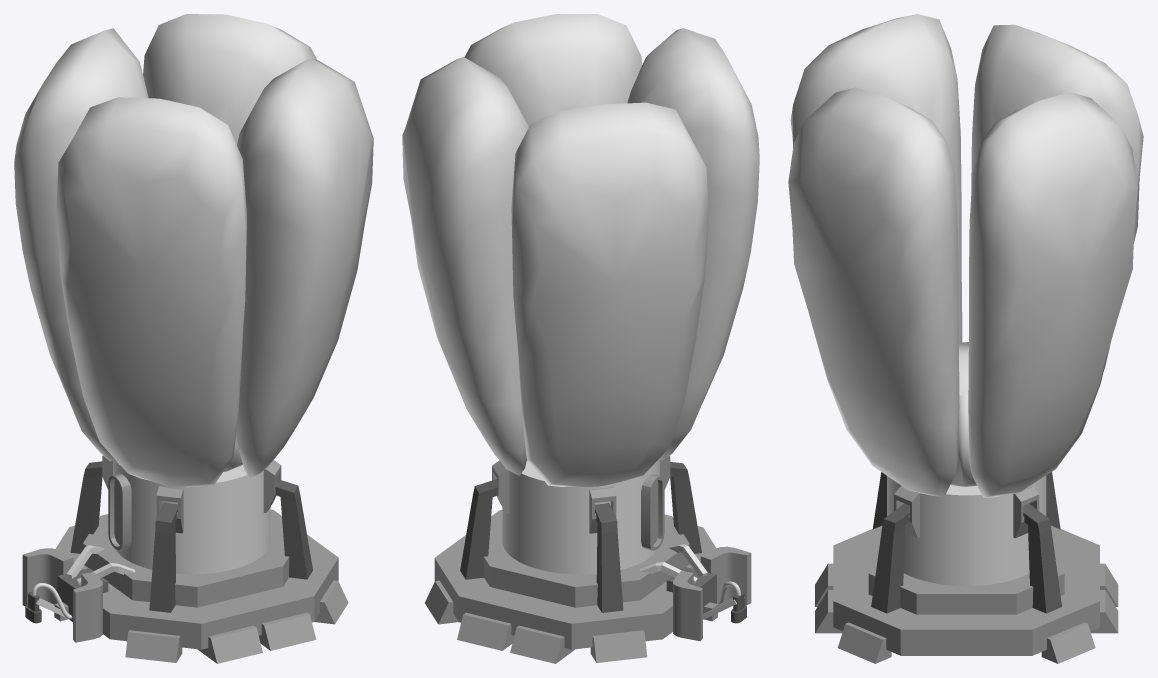
Rendered from SM_Checkpoint.fbx.
The picture shows the model from 3 angles, left to right: view 1: azimuth 30°, elevation 25°; view 2: azimuth 150°, elevation 25°; view 3: azimuth 270°, elevation 25°; orthographic projection.
Visible parts, largest first — view 1: Cube.279, Cube.271, Checkpoint, Cube.281, Cube.278, Cube.277, Cube.280, Cube.282, Cube.283, Cube.275; view 2: Cube.279, Cube.271, Checkpoint, Cube.281, Cube.278, Cube.277, Cube.280, Cube.282, Cube.283, Cube.275; view 3: Cube.279, Cube.271, Checkpoint, Cube.281, Cube.278, Cube.282.
Boxes of the visible parts, box(x1,y1,x2,y2) form: Cube.279: box(14, 14, 373, 487); Cube.271: box(55, 509, 338, 649); Checkpoint: box(113, 459, 270, 574); Cube.281: box(70, 461, 312, 612); Cube.278: box(125, 580, 348, 663); Cube.277: box(22, 548, 102, 642); Cube.280: box(108, 473, 131, 550); Cube.282: box(102, 455, 281, 533); Cube.283: box(67, 545, 135, 585); Cube.275: box(57, 568, 108, 621); Cube.279: box(402, 14, 759, 486); Cube.271: box(434, 510, 715, 649); Checkpoint: box(502, 459, 659, 574); Cube.281: box(460, 462, 701, 612); Cube.278: box(425, 580, 647, 663); Cube.277: box(673, 546, 751, 641); Cube.280: box(641, 474, 664, 550); Cube.282: box(492, 455, 670, 533); Cube.283: box(639, 544, 707, 583); Cube.275: box(666, 567, 716, 613); Cube.279: box(788, 14, 1143, 497); Cube.271: box(833, 525, 1099, 655); Checkpoint: box(887, 475, 1046, 585); Cube.281: box(871, 472, 1061, 613); Cube.278: box(815, 563, 1118, 663); Cube.282: box(894, 486, 1039, 538).
Bounding box in the file's own units: 194 × 319 × 187.
Materials: 2 (1 with a texture image).
